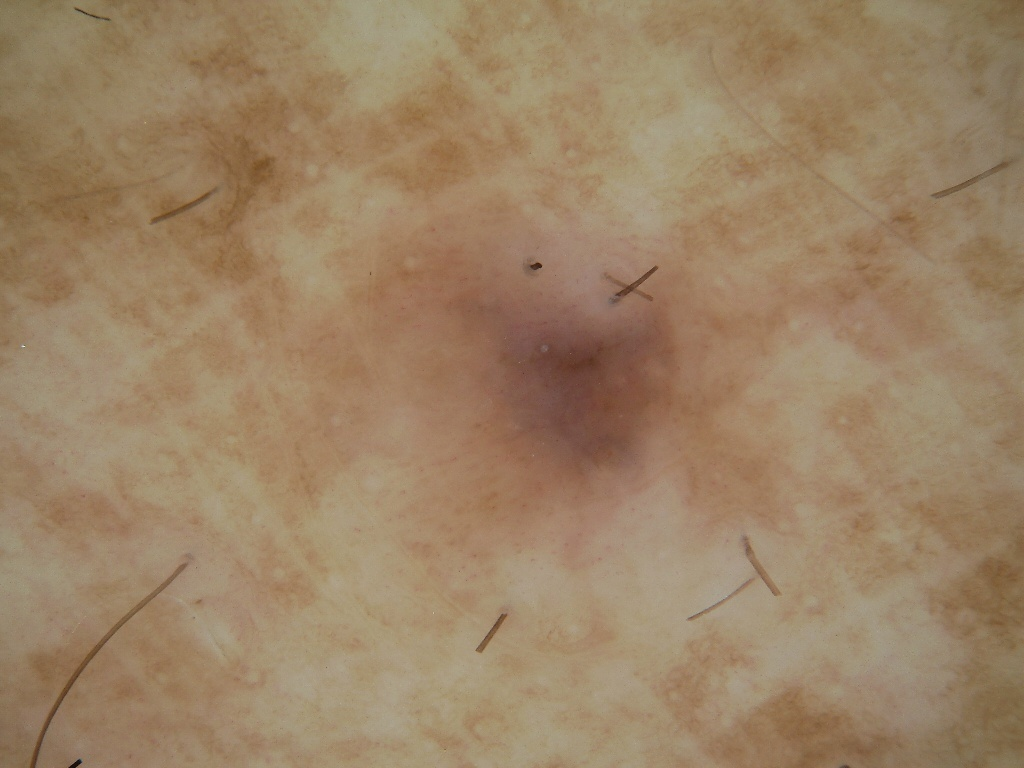Detected Lesion: (412, 222, 706, 503)
